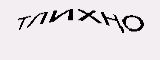И: (47, 9, 74, 23)
Л: (26, 10, 48, 29)
О: (122, 14, 145, 32)
Т: (17, 14, 31, 31)
Х: (77, 8, 102, 25)
Ң: (100, 11, 126, 33)
